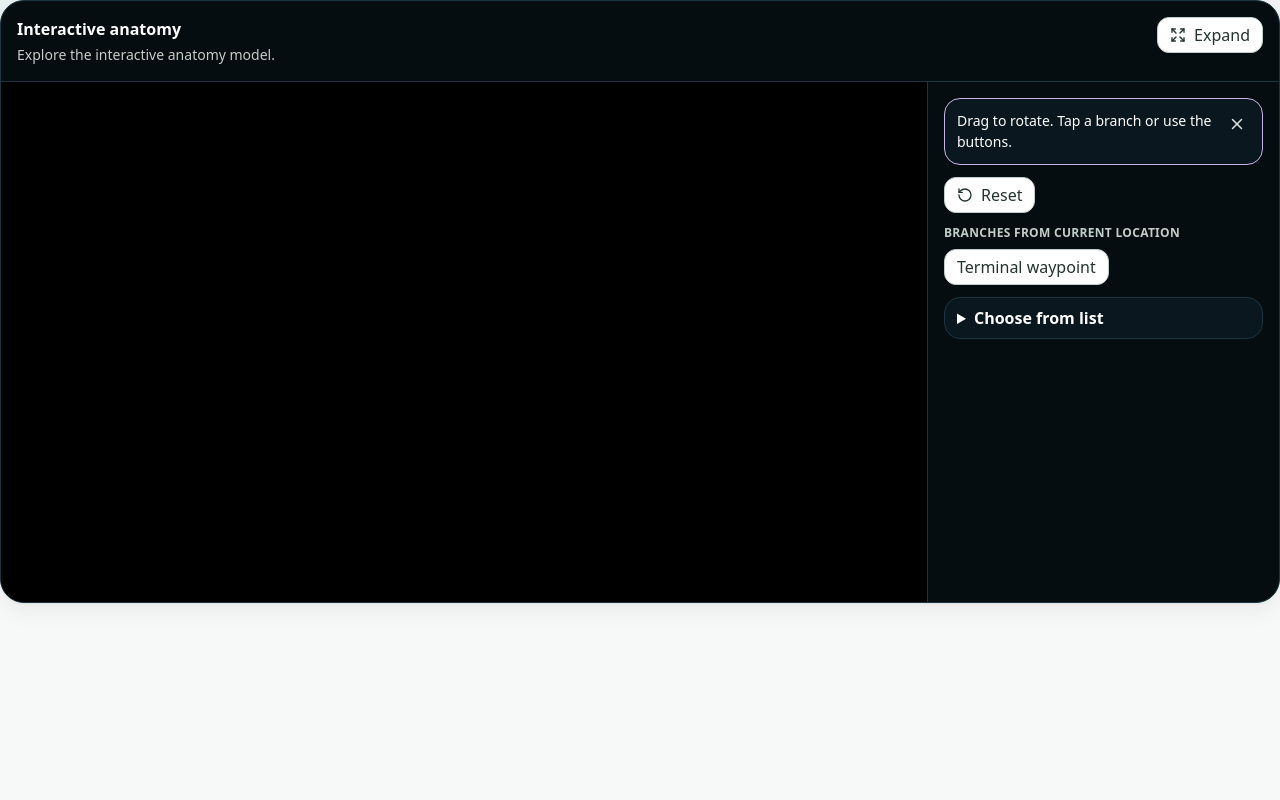
Test: AnatomyViewer › uses an in-page fullscreen fallback
What coordinates should you click on to do the following:
click the button with aria-label "Expand anatomy viewer"
I would click on:
 (1210, 35)
Its box is [1157,17,1263,53].
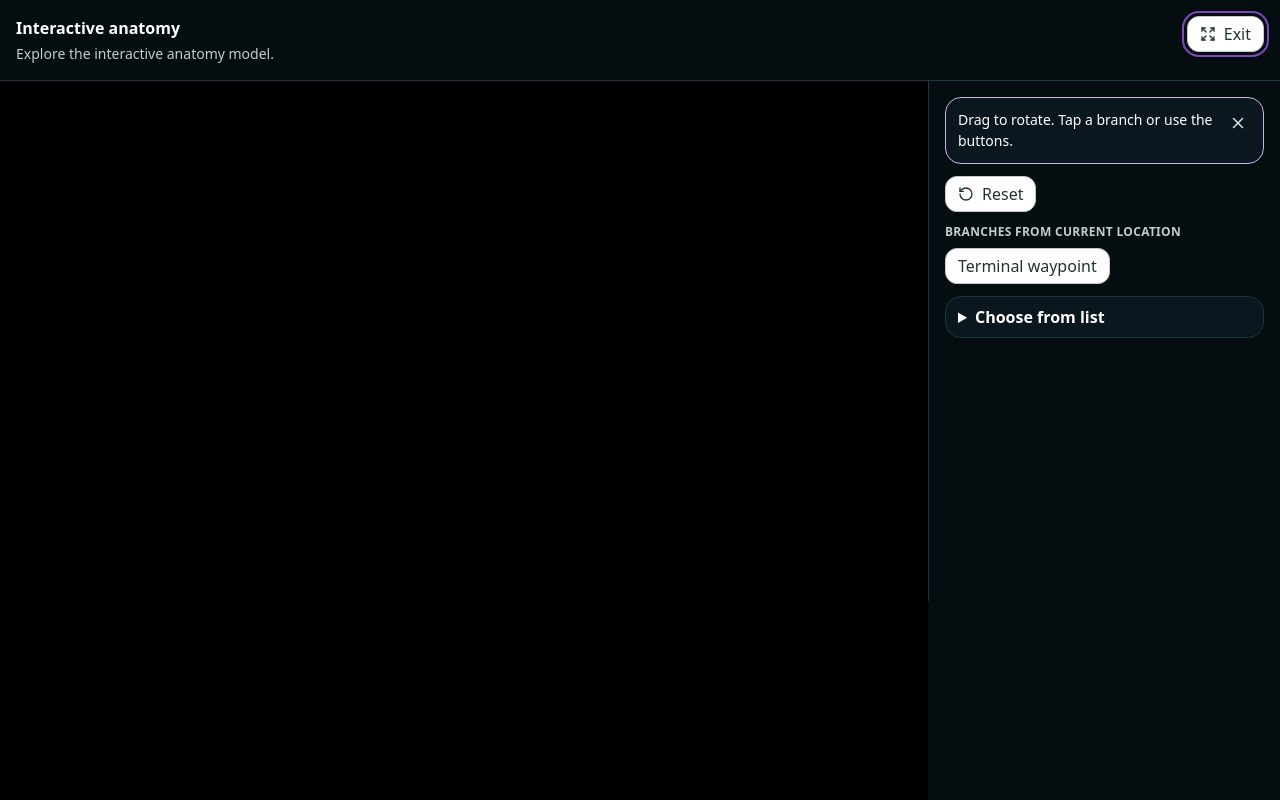
Now the button with aria-label "Exit fullscreen anatomy viewer" is shown, box [1187,16,1264,52]
